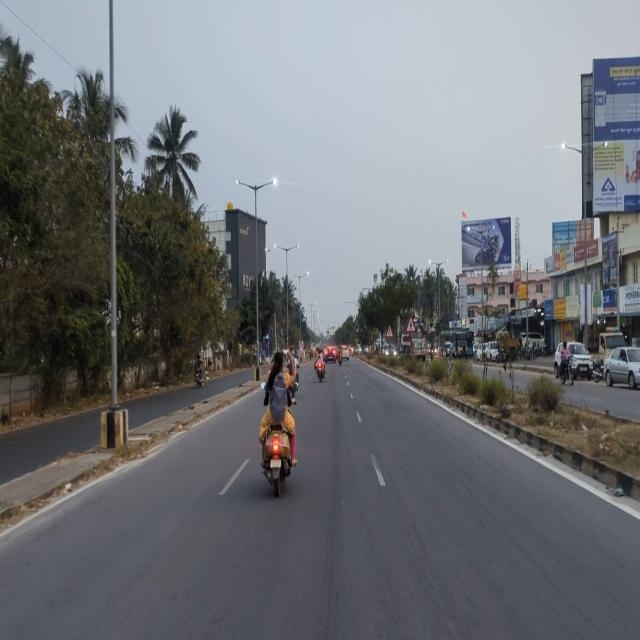bien_nguy_hiem: (404, 311, 418, 336), (386, 322, 393, 339)
